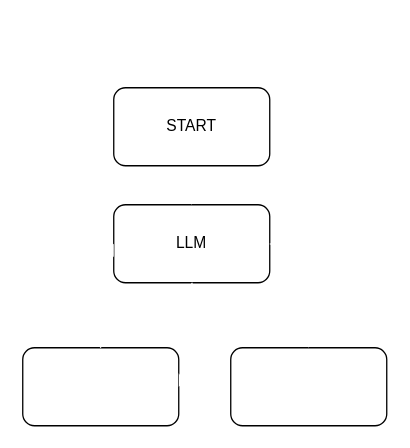
Image size: 410x448. Some labels were removed from this diagram. Each missing label, with the centre of its shape:
END: (x=308, y=386)
Tools (Group A + B): (x=100, y=386)
